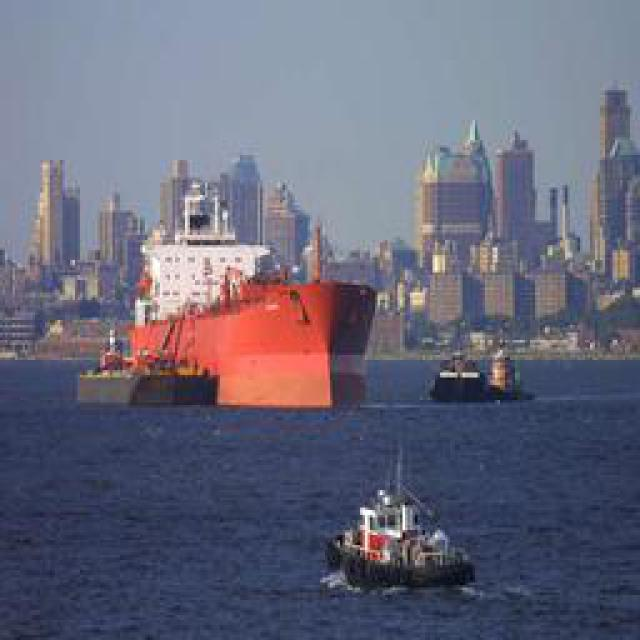Ship: (331, 440, 476, 595)
